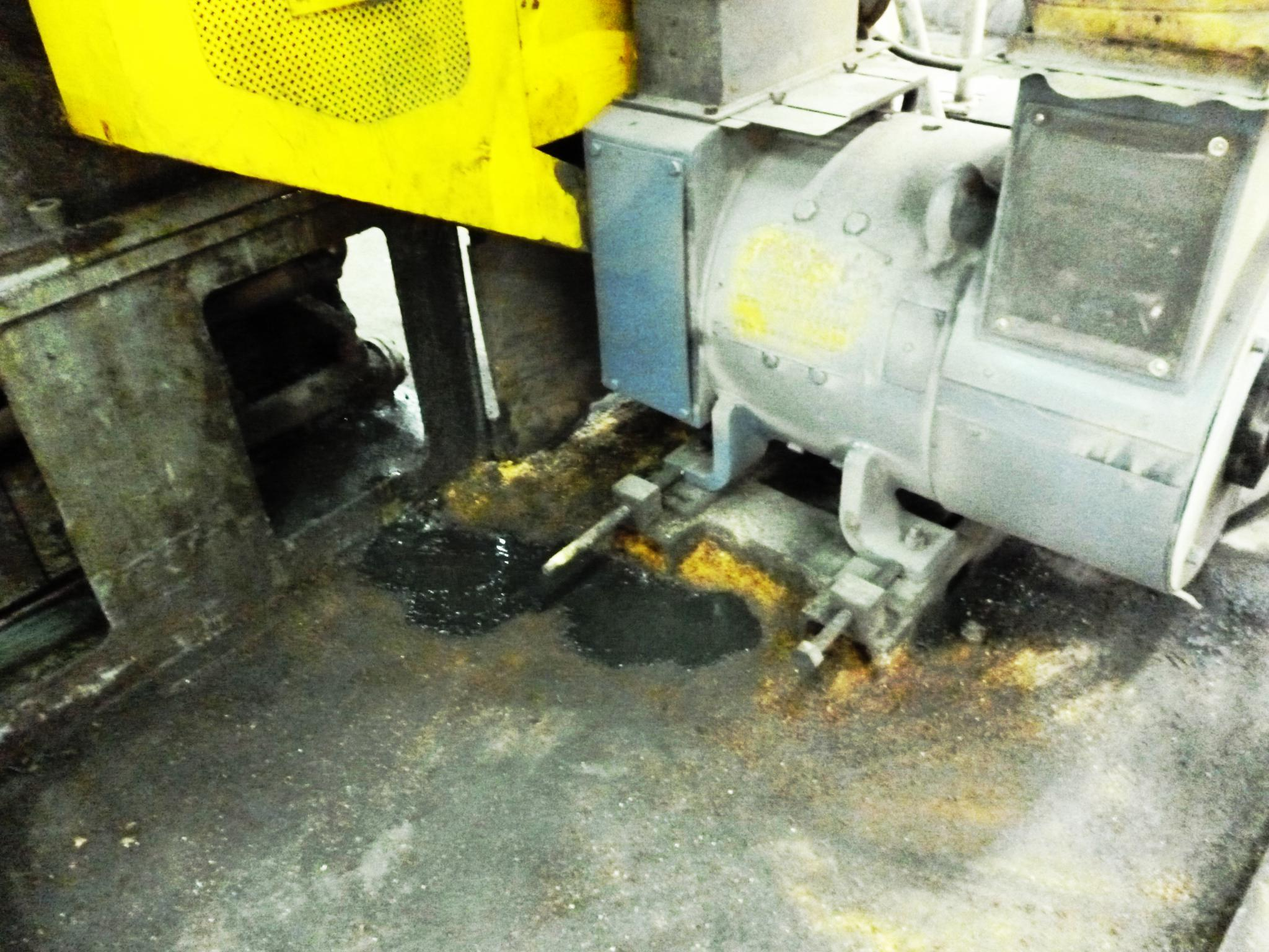water accumulation: (359, 516, 765, 666)
